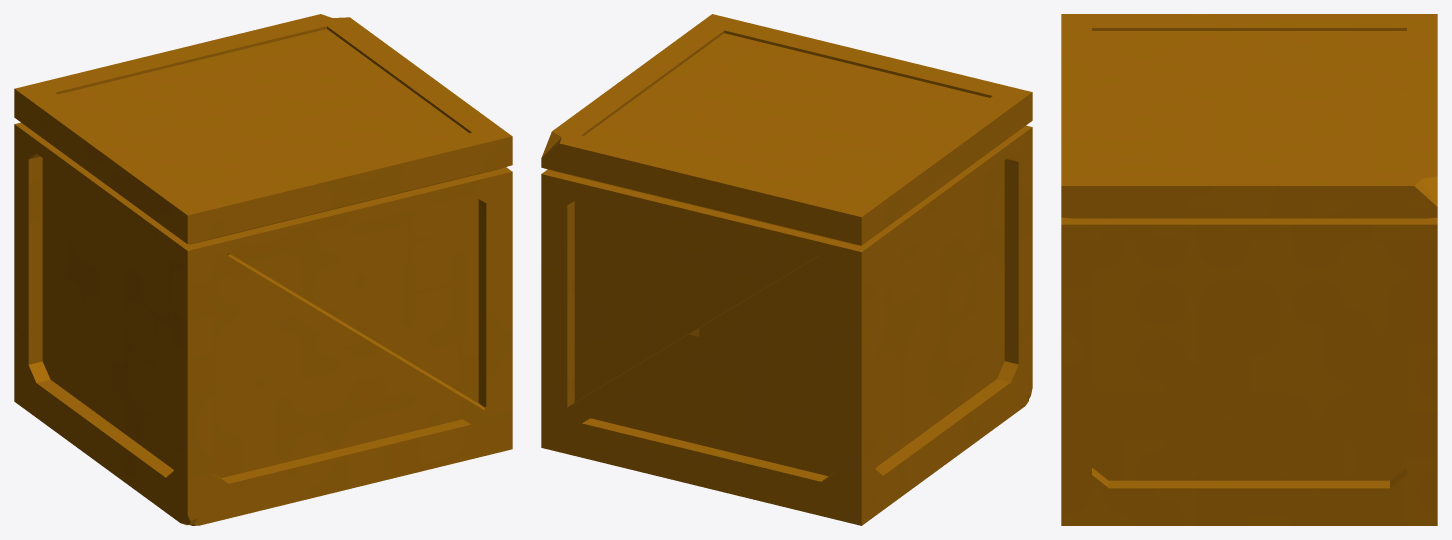
3 views of the same model, side by side, from view 1: azimuth 30°, elevation 25°; view 2: azimuth 150°, elevation 25°; view 3: azimuth 270°, elevation 25° (orthographic). The views are drawn at different scales.
Visible parts, largest first — view 1: Box 2; view 2: Box 2; view 3: Box 2.
Part boxes in pixels (x1,y1,x2,y2): Box 2: [14, 14, 512, 525]; Box 2: [541, 14, 1032, 525]; Box 2: [1061, 14, 1437, 525].
Size of the model in its own units: 61.98 by 57.16 by 57.27.
